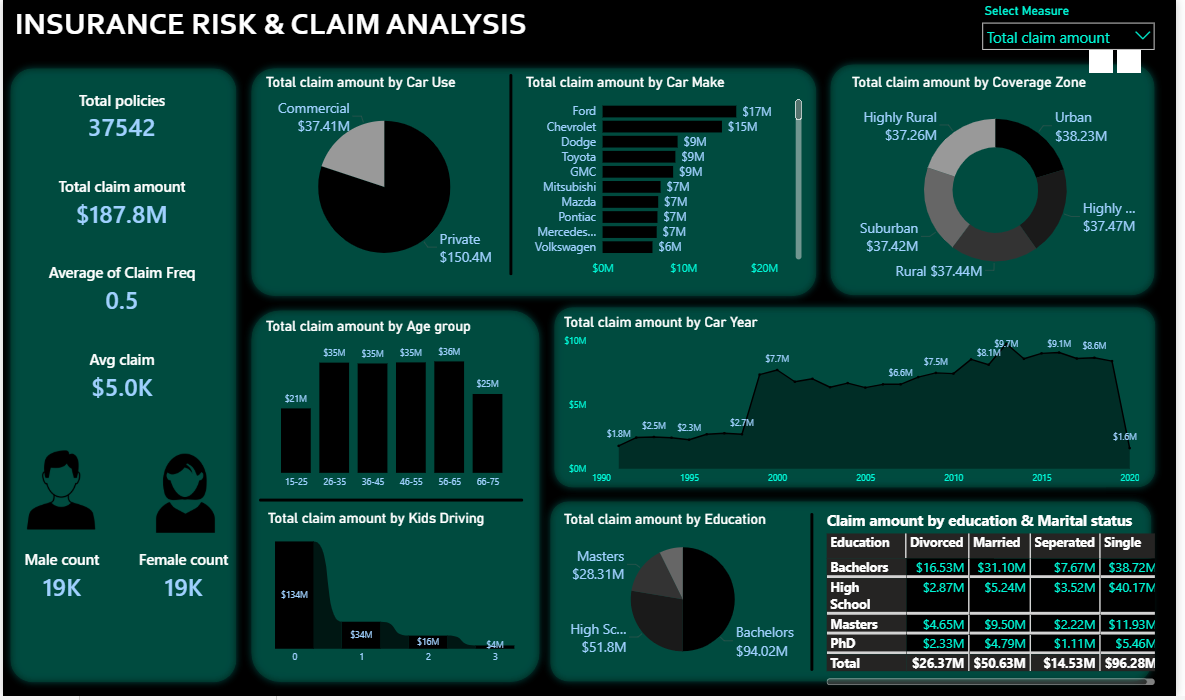

This screenshot's page, from the dashboard's own definition file:
{"tool":"powerbi","page":{"name":"Page 1","canvas":[1600,950],"ordinal":0},"visuals":[{"type":"textbox","box":[11.2,0,813.4,82.7],"z":0},{"type":"shape","box":[0,82.7,328.5,858.1],"z":1000},{"type":"cardVisual","fields":{"Data":["insurance_data_car.Total policies","insurance_data_car.Total claim amount","Avg(insurance_data_car.Claim Freq)","insurance_data_car.Avg claim"]},"box":[11.4,101.1,303.3,469.3],"z":2000},{"type":"cardVisual","fields":{"Data":["insurance_data_car.Male count","insurance_data_car.Female count"]},"box":[0,719.6,328.5,131.8],"z":3000},{"type":"image","box":[20.1,594.4,118.4,149.7],"z":4000},{"type":"image","box":[160.9,614.5,176.5,118.4],"z":5000},{"type":"slicer","fields":{"Values":["Select Measure.Select Measure"]},"box":[1327.4,0,254.7,78.2],"z":6000},{"type":"shape","box":[328.5,82.7,791.1,330.7],"z":7000},{"type":"pieChart","fields":{"Y":["insurance_data_car.Total claim amount"],"Category":["insurance_data_car.Car Use"]},"box":[352.9,101.1,333.8,286.1],"z":8000},{"type":"barChart","fields":{"Y":["insurance_data_car.Total claim amount"],"Category":["insurance_data_car.Car Make"]},"box":[708.4,100.6,386.6,286],"z":9000},{"type":"shape","box":[1119.6,78.2,462.6,335.2],"z":10000},{"type":"donutChart","fields":{"Y":["insurance_data_car.Total claim amount"],"Category":["insurance_data_car.Coverage Zone"]},"box":[1153.1,100.6,402.2,295],"z":11000},{"type":"shape","box":[328.5,413.4,413.4,527.4],"z":12000},{"type":"columnChart","fields":{"Y":["insurance_data_car.Total claim amount"],"Category":["insurance_data_car.Age group"]},"box":[353.1,433.5,355.3,241.3],"z":13000},{"type":"ribbonChart","fields":{"Y":["insurance_data_car.Total claim amount"],"Category":["insurance_data_car.Kids Driving"]},"box":[356.7,696.3,356.7,219.4],"z":14000},{"type":"shape","box":[741.9,408.9,840.2,265.9],"z":15000},{"type":"areaChart","fields":{"Y":["insurance_data_car.Total claim amount"],"Category":["insurance_data_car.Car Year"]},"box":[759.8,429.1,795.5,241.3],"z":16000},{"type":"shape","box":[737.4,674.9,840.2,265.9],"z":17000},{"type":"pieChart","fields":{"Y":["insurance_data_car.Total claim amount"],"Category":["insurance_data_car.Education"]},"box":[759.8,697.2,335.2,219],"z":18000},{"type":"pivotTable","title":"Claim amount by education & Marital status","fields":{"Values":["insurance_data_car.Total claim amount"],"Rows":["insurance_data_car.Education"],"Columns":["insurance_data_car.Marital Status"]},"box":[1119.8,696.3,457.8,244.2],"z":19000},{"type":"shape","box":[686.7,101.1,13.4,274.7],"z":20000},{"type":"shape","box":[349.1,669.6,360.5,24.8],"z":21000},{"type":"shape","box":[1087.3,700.1,32.4,215.6],"z":21001}]}

Visuals, with their boxes in screenshot pixels (x1, y1, x2, y2), scaled from the page's 1600x950 canvas onto the 1185x700 screenshot:
textbox: bbox=(8, 0, 611, 61)
shape: bbox=(0, 61, 243, 693)
cardVisual - insurance_data_car.Total policies x insurance_data_car.Total claim amount: bbox=(8, 74, 233, 420)
cardVisual - insurance_data_car.Male count x insurance_data_car.Female count: bbox=(0, 530, 243, 627)
image: bbox=(15, 438, 103, 548)
image: bbox=(119, 453, 250, 540)
slicer - Select Measure.Select Measure: bbox=(983, 0, 1172, 58)
shape: bbox=(243, 61, 829, 305)
pieChart - insurance_data_car.Total claim amount x insurance_data_car.Car Use: bbox=(261, 74, 509, 285)
barChart - insurance_data_car.Total claim amount x insurance_data_car.Car Make: bbox=(525, 74, 811, 285)
shape: bbox=(829, 58, 1172, 305)
donutChart - insurance_data_car.Total claim amount x insurance_data_car.Coverage Zone: bbox=(854, 74, 1152, 291)
shape: bbox=(243, 305, 549, 693)
columnChart - insurance_data_car.Total claim amount x insurance_data_car.Age group: bbox=(262, 319, 525, 497)
ribbonChart - insurance_data_car.Total claim amount x insurance_data_car.Kids Driving: bbox=(264, 513, 528, 675)
shape: bbox=(549, 301, 1172, 497)
areaChart - insurance_data_car.Total claim amount x insurance_data_car.Car Year: bbox=(563, 316, 1152, 494)
shape: bbox=(546, 497, 1168, 693)
pieChart - insurance_data_car.Total claim amount x insurance_data_car.Education: bbox=(563, 514, 811, 675)
"Claim amount by education & Marital status" pivotTable: bbox=(829, 513, 1168, 693)
shape: bbox=(509, 74, 519, 277)
shape: bbox=(259, 493, 526, 512)
shape: bbox=(805, 516, 829, 675)
